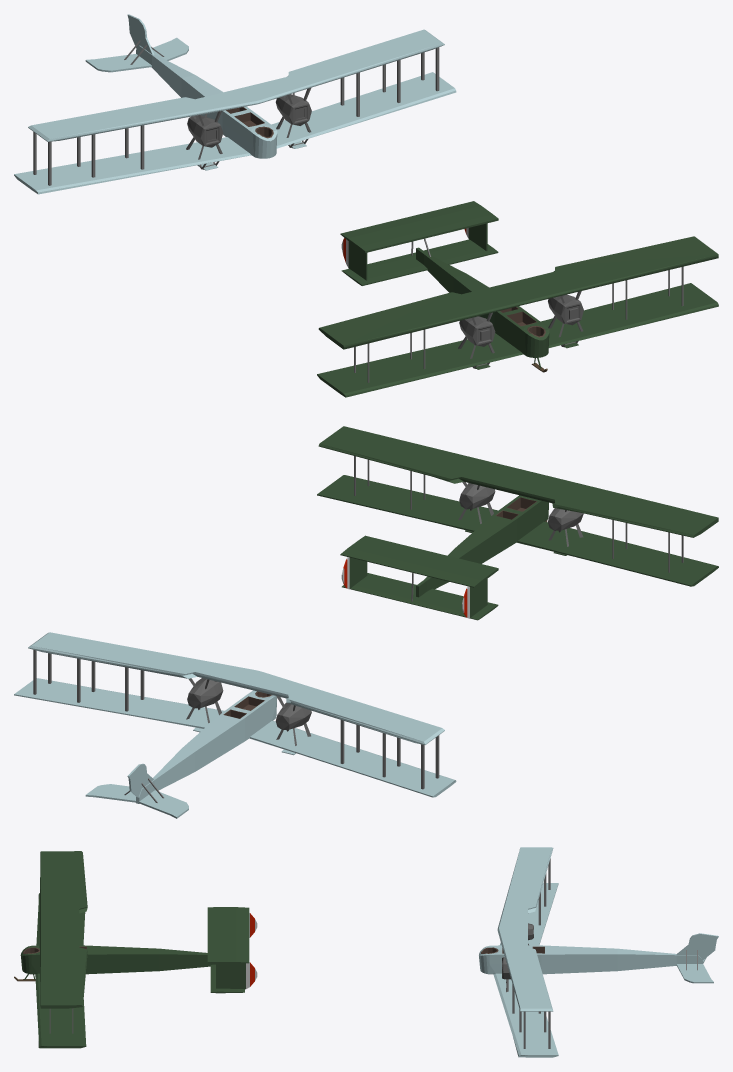
Rendered from Vickers Vimy.fbx.
3 views of the same model, one above another, from view 1: azimuth 30°, elevation 25°; view 2: azimuth 150°, elevation 25°; view 3: azimuth 270°, elevation 25° (orthographic). The views are drawn at different scales.
Parts seen in each view (by area): view 1: Vickers Vimy, Gotha Bomber; view 2: Vickers Vimy, Gotha Bomber; view 3: Vickers Vimy, Gotha Bomber.
Boxes of the visible parts, x1,y1,x2,y2 form: Vickers Vimy: (317, 201, 718, 397); Gotha Bomber: (14, 14, 456, 194); Vickers Vimy: (317, 426, 718, 620); Gotha Bomber: (14, 632, 456, 818); Vickers Vimy: (14, 851, 257, 1048); Gotha Bomber: (479, 847, 718, 1057).
Bounding box in the file's own units: 3734 × 532 × 6464.
